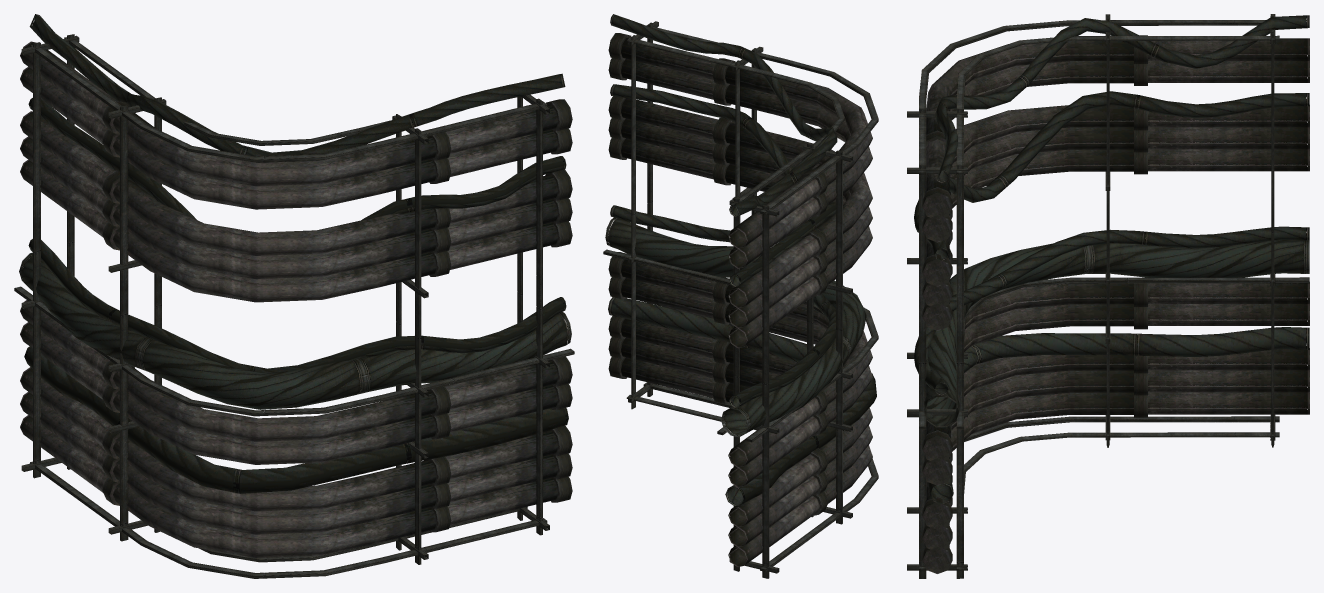
Rendered from tesla_dressing_pipe_clusters_04.dae.
3 renders of one model, left to right at view 1: azimuth 30°, elevation 25°; view 2: azimuth 150°, elevation 25°; view 3: azimuth 270°, elevation 25°, orthographic. The views are drawn at different scales.
Parts seen in each view (by area): view 1: wirebase_polySurface46, polySurface61, polySurface47; view 2: wirebase_polySurface46, polySurface61, polySurface47; view 3: wirebase_polySurface46, polySurface61, polySurface47.
Part boxes in pixels (bbox=[...]): wirebase_polySurface46: bbox=[20, 41, 572, 557]; polySurface61: bbox=[19, 14, 571, 493]; polySurface47: bbox=[14, 34, 574, 578]; wirebase_polySurface46: bbox=[608, 33, 872, 566]; polySurface61: bbox=[605, 14, 876, 506]; polySurface47: bbox=[603, 21, 878, 578]; wirebase_polySurface46: bbox=[922, 35, 1309, 573]; polySurface61: bbox=[914, 15, 1309, 504]; polySurface47: bbox=[907, 14, 1309, 578].
Bounding box in the file's own units: 4125 × 4786 × 4128.
